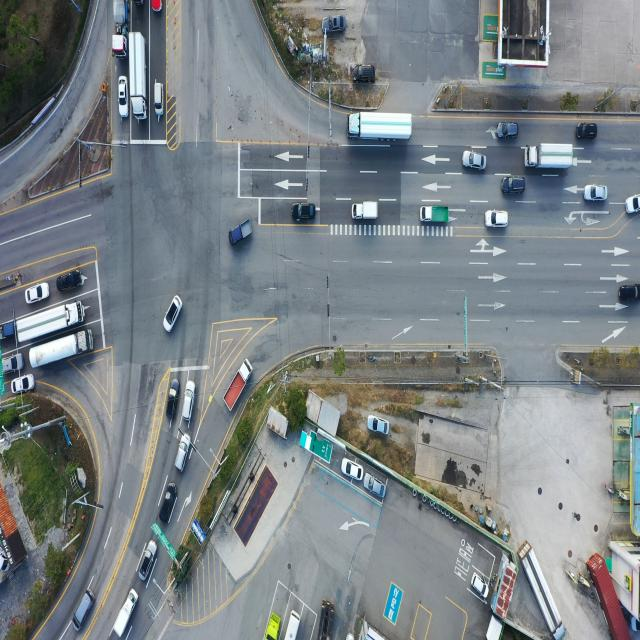car: (72, 589, 94, 631), (138, 538, 158, 582), (158, 482, 176, 525), (174, 434, 190, 474), (165, 296, 182, 333), (58, 271, 84, 294), (365, 476, 387, 502), (182, 379, 195, 421), (167, 380, 180, 420), (27, 282, 50, 304), (11, 374, 34, 396), (343, 458, 364, 482), (472, 573, 490, 601), (1, 353, 24, 374), (366, 416, 389, 436), (292, 203, 315, 222), (462, 153, 486, 171), (501, 176, 525, 194), (619, 283, 640, 303), (118, 77, 128, 119), (584, 184, 607, 202), (486, 210, 508, 228), (575, 124, 597, 142), (496, 123, 518, 141), (353, 64, 375, 82), (324, 14, 346, 31), (154, 82, 163, 117), (627, 195, 640, 216), (151, 0, 161, 12)
medium_truck: (520, 540, 566, 638), (13, 303, 84, 346), (28, 328, 95, 371), (344, 114, 412, 144), (131, 30, 150, 120), (226, 358, 253, 414), (526, 146, 576, 172), (112, 0, 127, 55), (317, 600, 334, 640)
small_bus: (280, 612, 301, 640)
small_truck: (113, 587, 138, 639), (228, 219, 251, 245), (421, 206, 451, 225), (351, 202, 378, 222), (265, 614, 282, 640), (0, 320, 16, 340)
